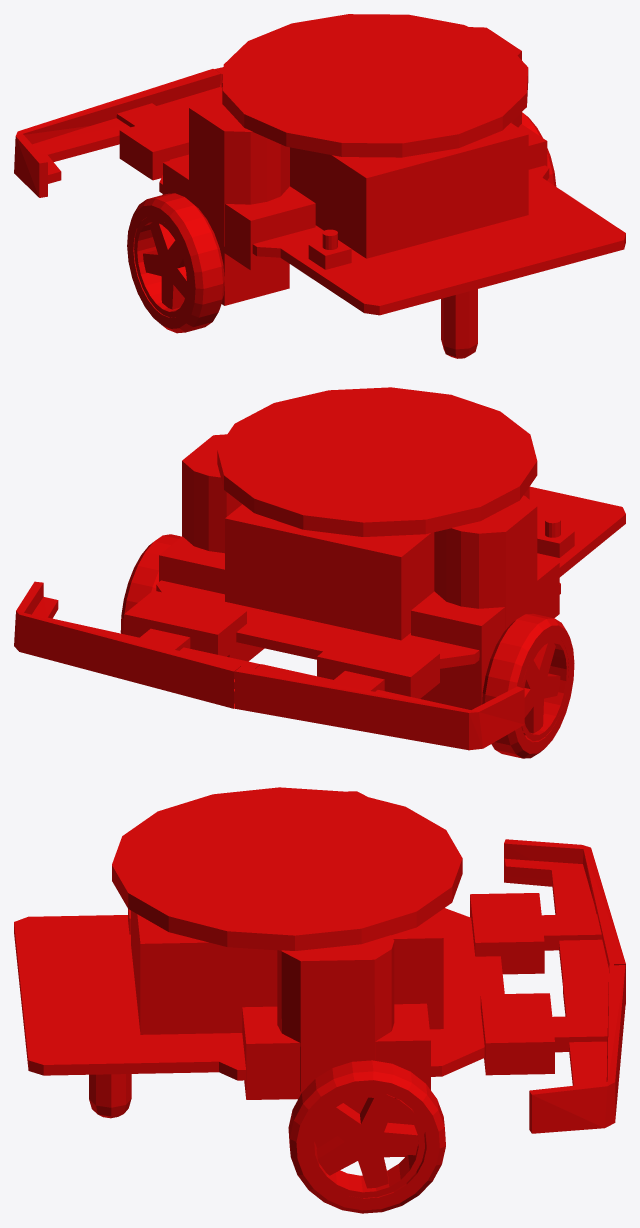
The model's file is redrobot.gltf.
3 renders of one model, top to bottom at view 1: azimuth 30°, elevation 25°; view 2: azimuth 150°, elevation 25°; view 3: azimuth 270°, elevation 25°, orthographic. The views are drawn at different scales.
Visible parts, largest first — view 1: placa_Cylinder; view 2: placa_Cylinder; view 3: placa_Cylinder.
Boxes of the visible parts, x1,y1,x2,y2 form: placa_Cylinder: (14,14,625,358); placa_Cylinder: (14,387,625,758); placa_Cylinder: (14,787,625,1213).
Size of the model in its own units: 0.1031 by 0.0479 by 0.1046.
